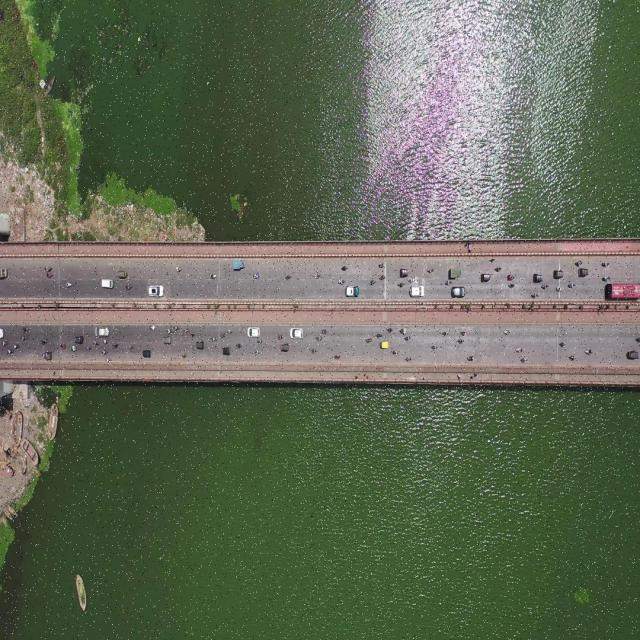3W: (231, 254, 247, 273), (551, 266, 566, 280), (626, 347, 640, 362), (40, 348, 54, 362), (380, 340, 392, 355), (279, 340, 291, 354), (162, 334, 174, 348), (143, 345, 153, 360), (117, 267, 129, 279), (578, 266, 589, 279), (194, 339, 205, 351), (479, 273, 492, 283), (222, 344, 231, 358), (74, 333, 85, 344), (398, 267, 410, 277), (533, 273, 544, 282)
Bus: (610, 283, 640, 302)
Cars: (407, 282, 426, 298), (344, 282, 360, 300), (146, 284, 166, 298), (244, 325, 261, 338), (0, 265, 9, 287), (290, 324, 303, 339), (100, 278, 115, 290), (94, 326, 110, 336), (452, 287, 466, 298)
M2W: (557, 339, 571, 351), (64, 278, 75, 292), (234, 340, 245, 353), (85, 344, 94, 358), (125, 280, 134, 294), (208, 269, 219, 280), (43, 271, 55, 281), (602, 271, 610, 285), (11, 340, 21, 351), (209, 334, 219, 345), (57, 340, 67, 351), (181, 348, 190, 360), (226, 324, 234, 337), (100, 348, 110, 358), (0, 336, 9, 347), (111, 339, 120, 350), (149, 322, 158, 333), (398, 323, 407, 334), (19, 334, 31, 342), (379, 270, 387, 282), (20, 325, 33, 332), (91, 340, 100, 350), (127, 342, 136, 352), (174, 264, 183, 274), (375, 332, 385, 341), (460, 328, 469, 338), (465, 353, 475, 362), (514, 345, 524, 354), (584, 345, 594, 354), (574, 258, 584, 267), (503, 324, 510, 336), (70, 342, 77, 354), (7, 347, 16, 356), (252, 271, 261, 280), (256, 339, 265, 348), (404, 356, 413, 365), (218, 330, 226, 340), (520, 354, 528, 364), (542, 283, 550, 293), (42, 265, 53, 272), (104, 356, 115, 363), (41, 334, 48, 345), (457, 336, 464, 347), (310, 347, 318, 356), (430, 344, 439, 352), (507, 282, 516, 290), (568, 353, 576, 362), (378, 260, 385, 270), (428, 266, 435, 276), (442, 328, 449, 338), (313, 272, 321, 280), (506, 272, 514, 280), (182, 325, 189, 334), (365, 335, 372, 344), (334, 352, 341, 361), (387, 326, 394, 335), (391, 348, 398, 357), (444, 279, 453, 286), (567, 282, 576, 289), (167, 324, 173, 334), (188, 332, 198, 338), (369, 277, 375, 287), (406, 278, 416, 284), (173, 324, 181, 331), (284, 274, 291, 282), (253, 349, 261, 356), (338, 279, 346, 286), (341, 265, 348, 273), (404, 335, 411, 343), (530, 291, 537, 299), (555, 284, 562, 292), (278, 332, 284, 341), (495, 264, 501, 272), (104, 338, 110, 345), (316, 335, 323, 341), (321, 328, 328, 334), (601, 262, 609, 267), (398, 282, 404, 288)
Truck: (448, 268, 462, 280)
